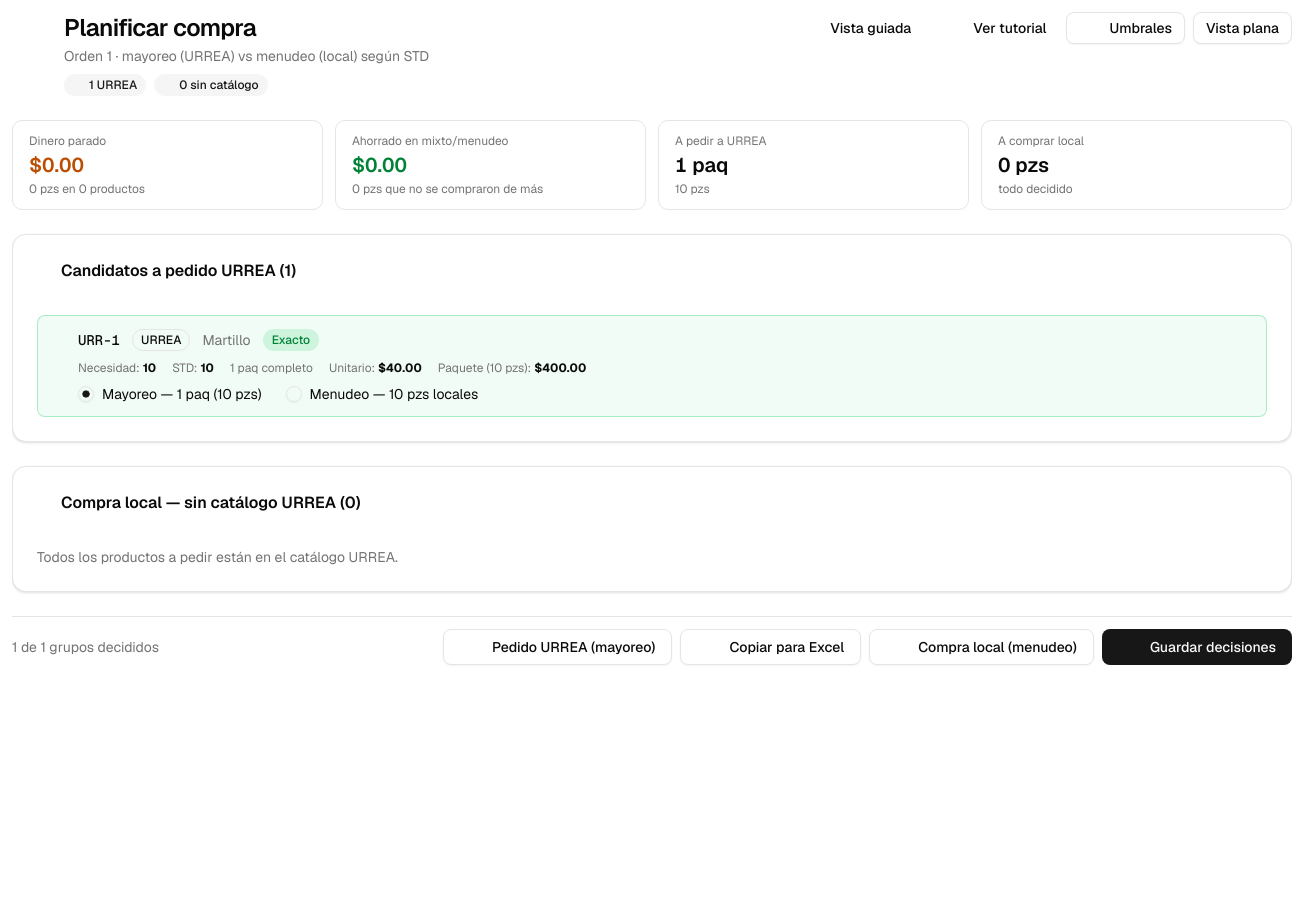
Test: PurchasePlanner › vista plana lista las líneas de origen read-only
Expected: the text "Exacto" is shown, top-left (263, 329), bottom-right (319, 351)
Click the button "Vista plana".
click(1242, 28)  # box top-left (1193, 12), bottom-right (1292, 44)
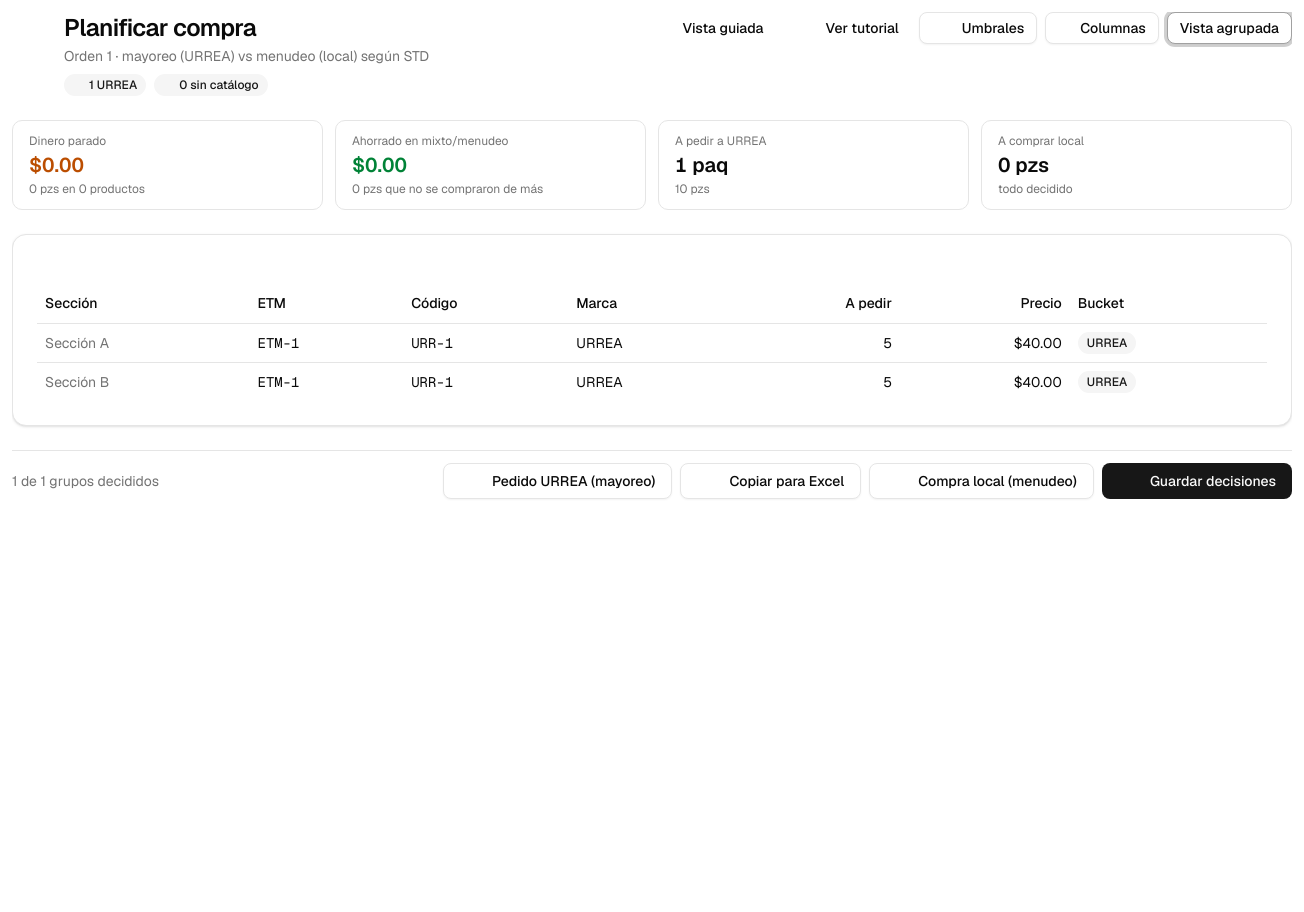
Expected: the text "Sección A" is shown, top-left (37, 323), bottom-right (250, 362)
Expected: the text "Sección B" is shown, top-left (37, 362), bottom-right (250, 400)
Expected: the radio button is gone
